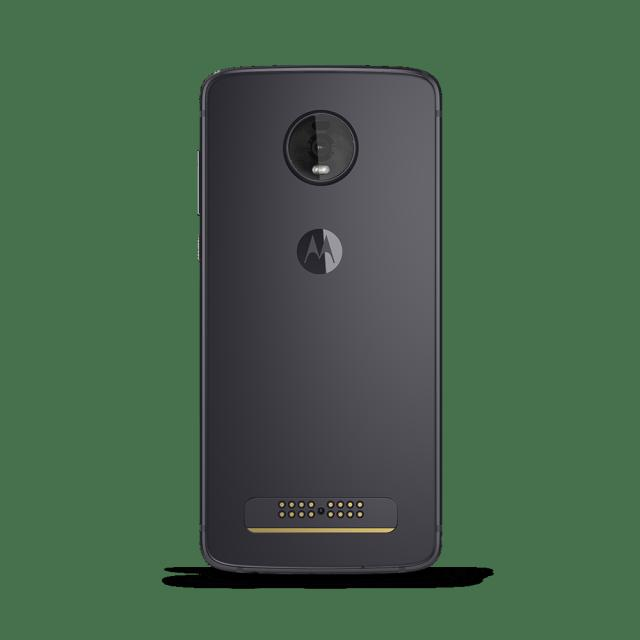phone: (191, 65, 444, 578)
